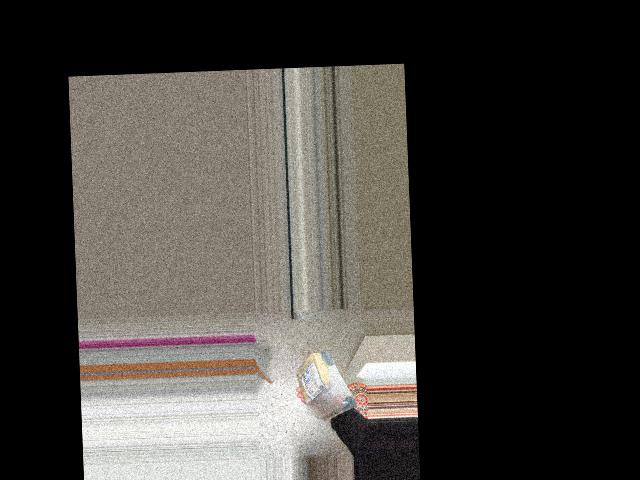cheese: (294, 345, 356, 432)
